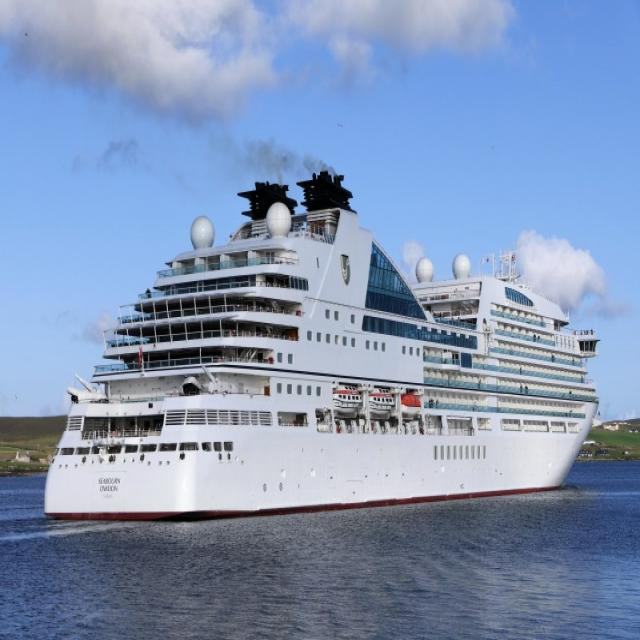cruises: (39, 169, 602, 528)
